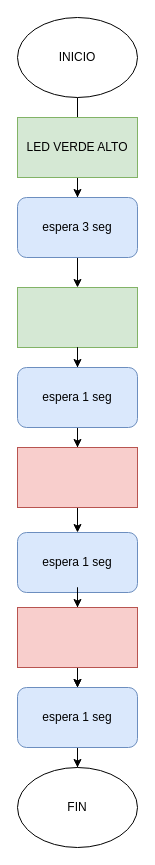
This 155x865 diagram has some shape labels left out. The shapes that lost their labels are listed below. From the top down, each one's centre as x and y in pixels, then its label:
At (x=77, y=317): "LED VERDE BAJO".
At (x=77, y=477): "LED ROJO ALTO".
At (x=77, y=637): "LED ROJO BAJO".
